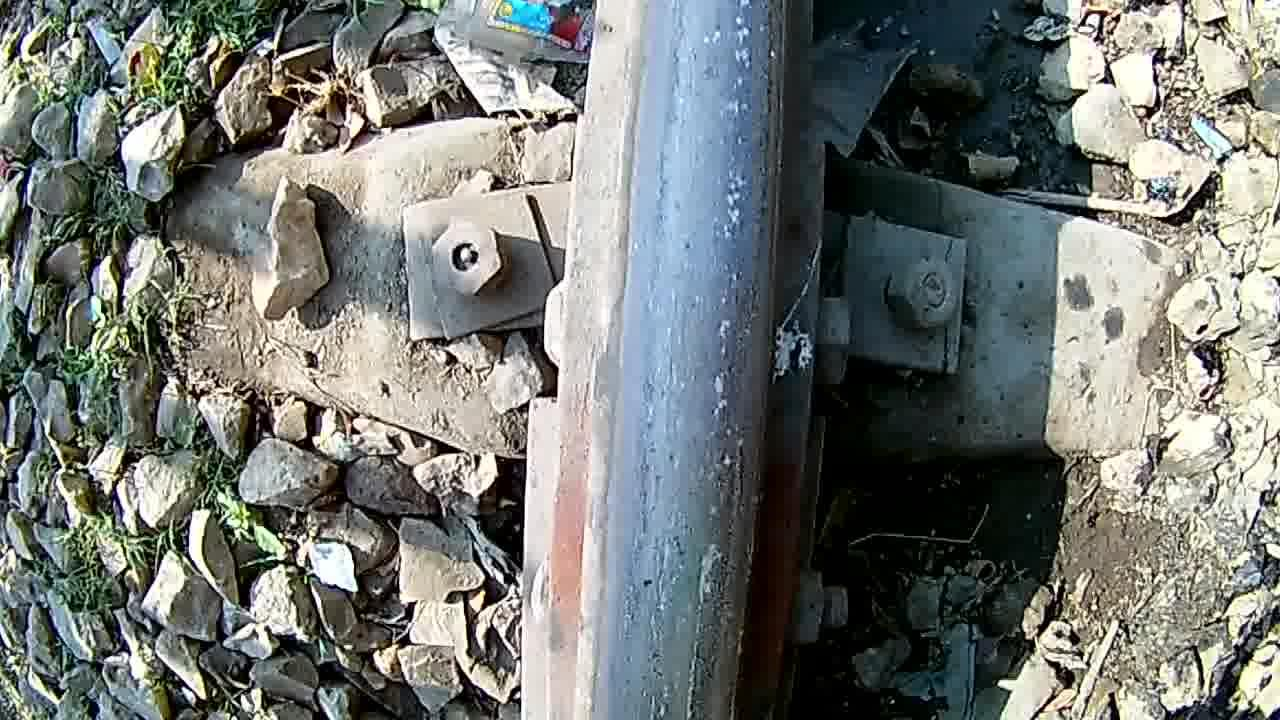clip_missing: (576, 0, 788, 720)
